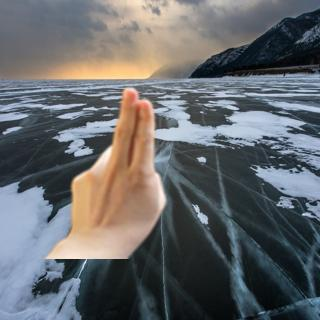DHAVE: (61, 82, 168, 250)
